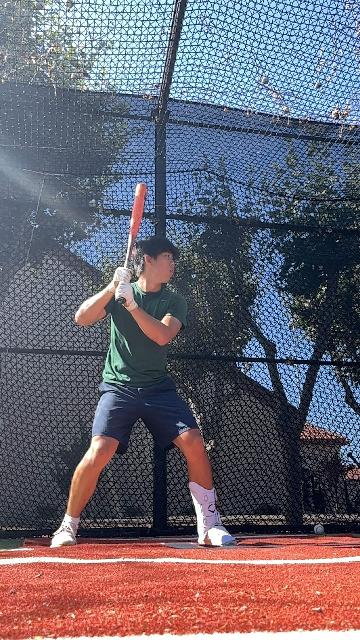baseball bat: (122, 181, 148, 267)
